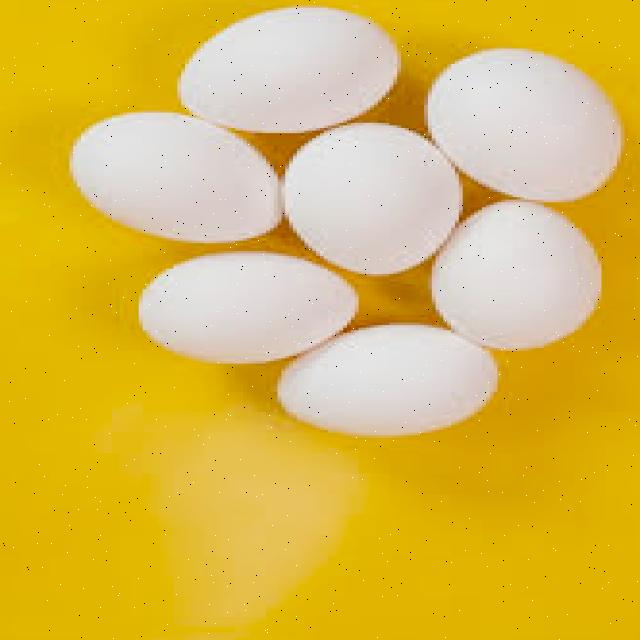White Egg: (421, 39, 622, 209), (57, 104, 288, 250), (174, 0, 397, 138), (126, 254, 362, 377), (423, 200, 596, 358), (281, 329, 501, 441), (288, 132, 438, 290)
